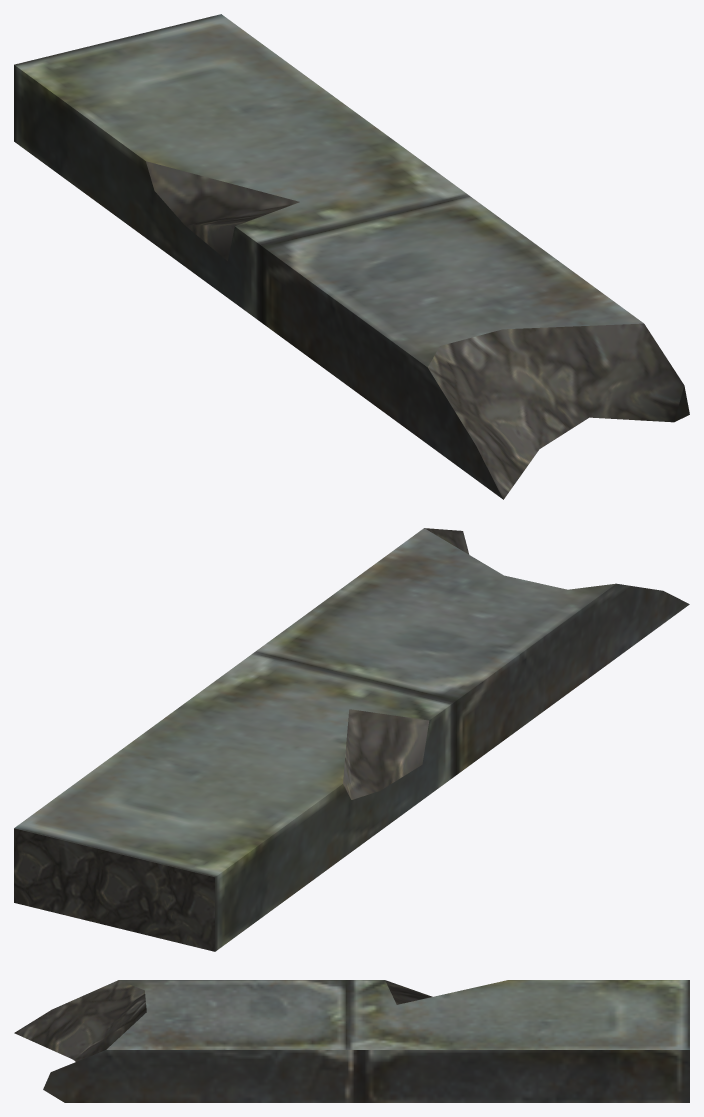
Rendered from F_fushou017.fbx.
3 renders of one model, top to bottom at view 1: azimuth 30°, elevation 25°; view 2: azimuth 150°, elevation 25°; view 3: azimuth 270°, elevation 25°, orthographic. The views are drawn at different scales.
Parts seen in each view (by area): view 1: F_fushou017; view 2: F_fushou017; view 3: F_fushou017.
Boxes of the visible parts, x1=… form: F_fushou017: x1=14, y1=14, x2=689, y2=499; F_fushou017: x1=14, y1=528, x2=689, y2=951; F_fushou017: x1=14, y1=980, x2=689, y2=1102.
Bounding box in the file's own units: 29.75 × 10.54 × 122.
